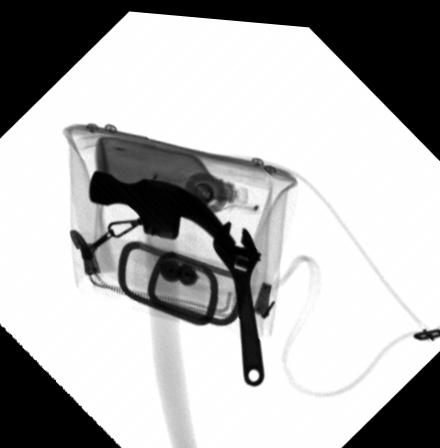Hammer: (86, 167, 235, 448)
Wrench: (210, 216, 263, 383)
